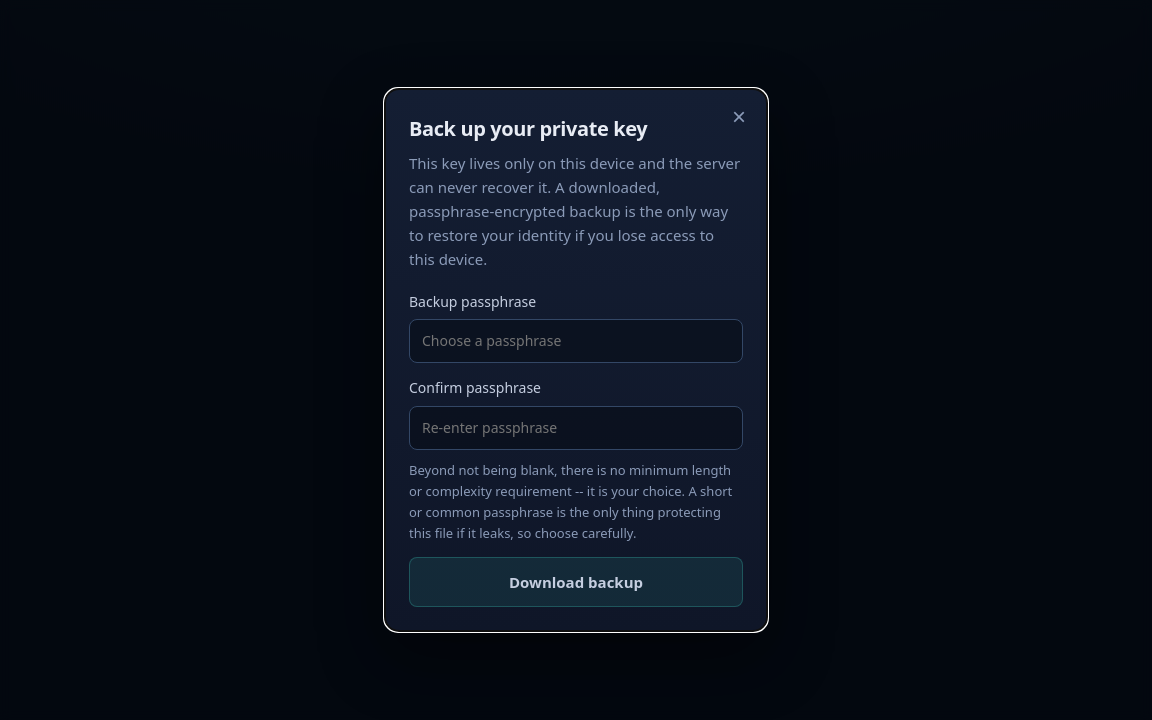
Scenario: BackupIdentityDialog › requires the confirmation passphrase to match
In the password field labelled "Backup passphrase": coordinates (576, 341) [409, 319, 743, 363], type "abc"
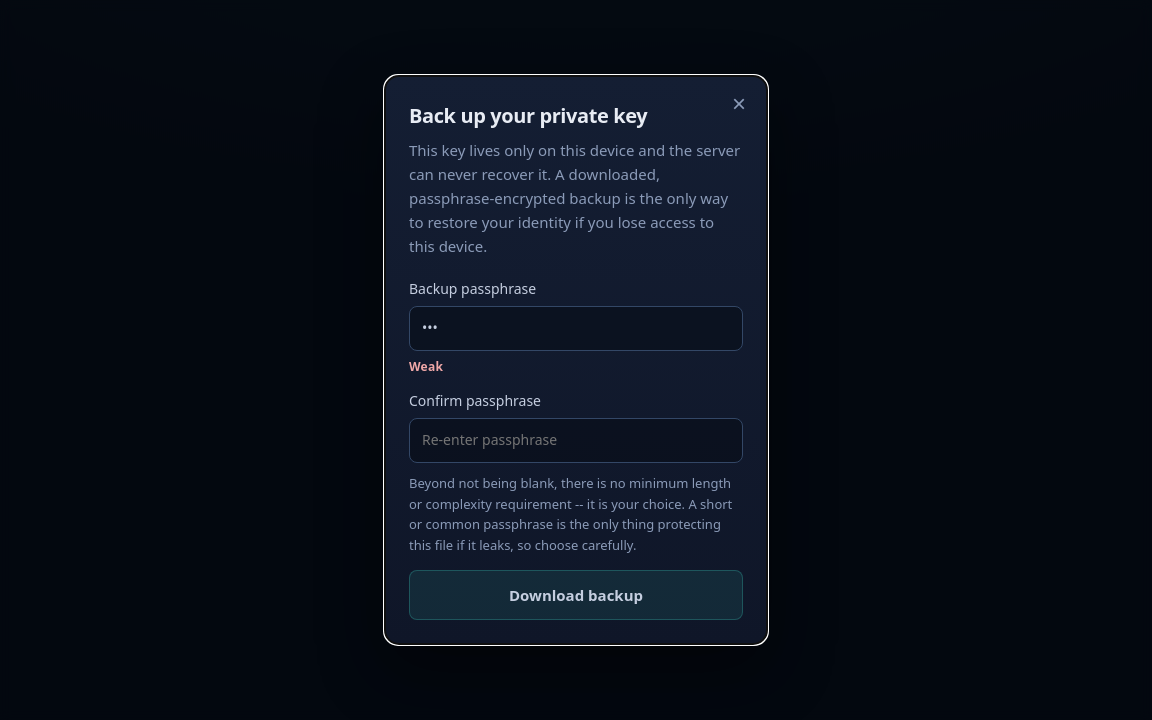
In the password field labelled "Confirm passphrase": coordinates (576, 441) [409, 418, 743, 463], type "xyz"
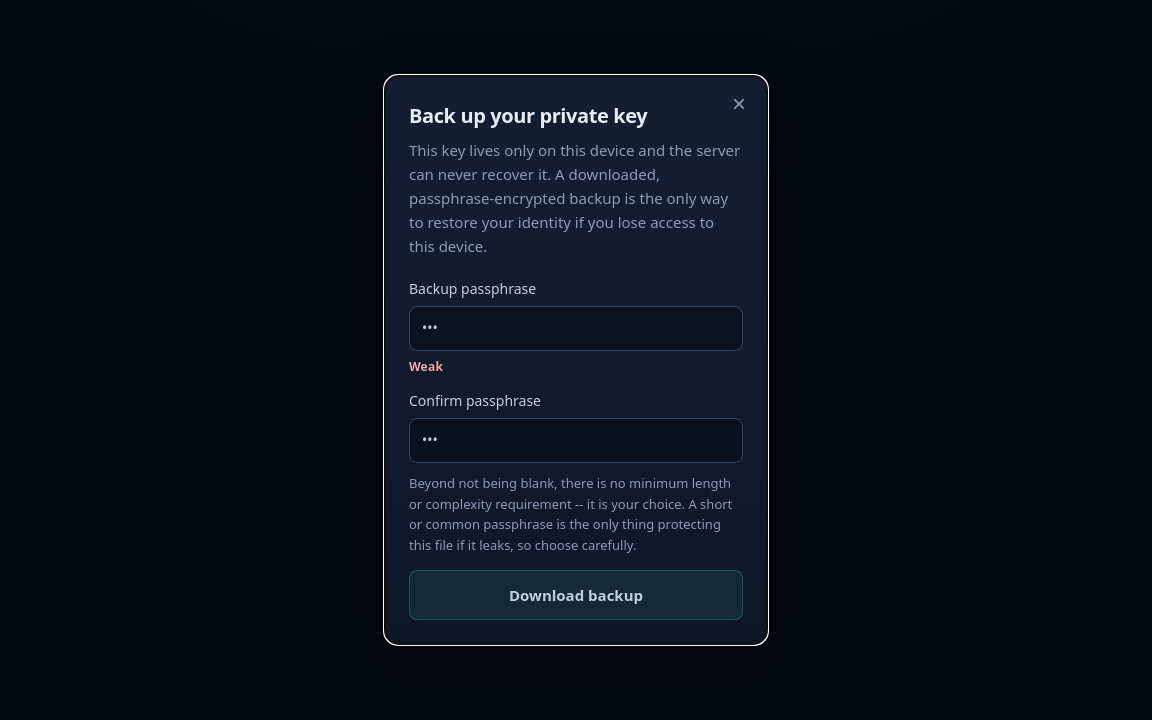
Click the button "Download backup": coordinates (576, 595) [409, 570, 743, 620]
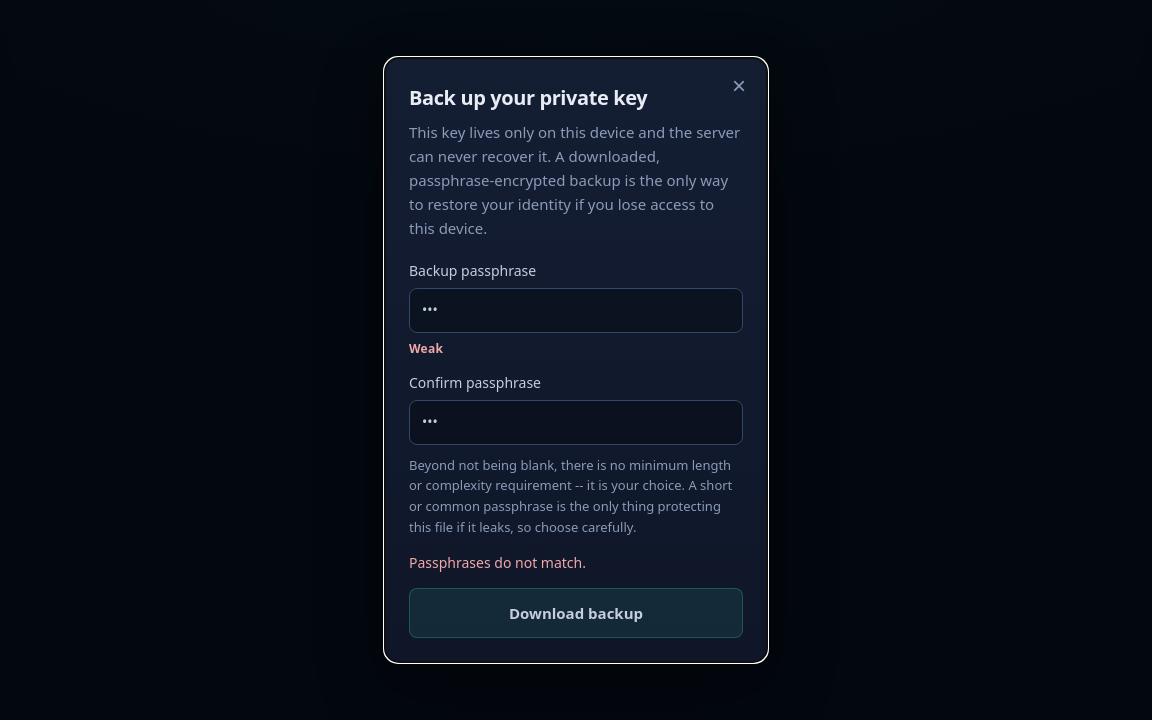
Result: the message reads "Passphrases do not match." at [409, 553, 586, 572]
